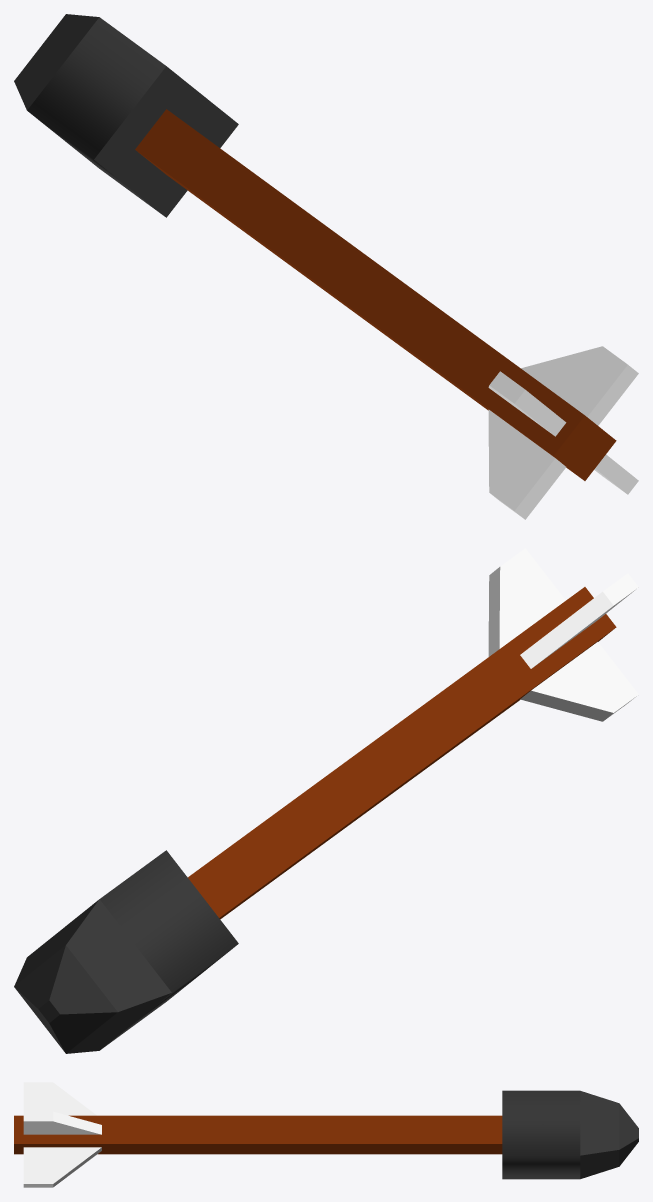
Rendered from arrow.FBX.
3 renders of one model, top to bottom at view 1: azimuth 30°, elevation 25°; view 2: azimuth 150°, elevation 25°; view 3: azimuth 270°, elevation 25°, orthographic. The views are drawn at different scales.
Parts seen in each view (by area): view 1: Cylinder004; view 2: Cylinder004; view 3: Cylinder004.
Part boxes in pixels (x1=…): Cylinder004: x1=14, y1=14, x2=638, y2=519; Cylinder004: x1=14, y1=548, x2=638, y2=1053; Cylinder004: x1=14, y1=1082, x2=638, y2=1187.
Bounding box in the file's own units: 1.97 × 1.97 × 12.6.
